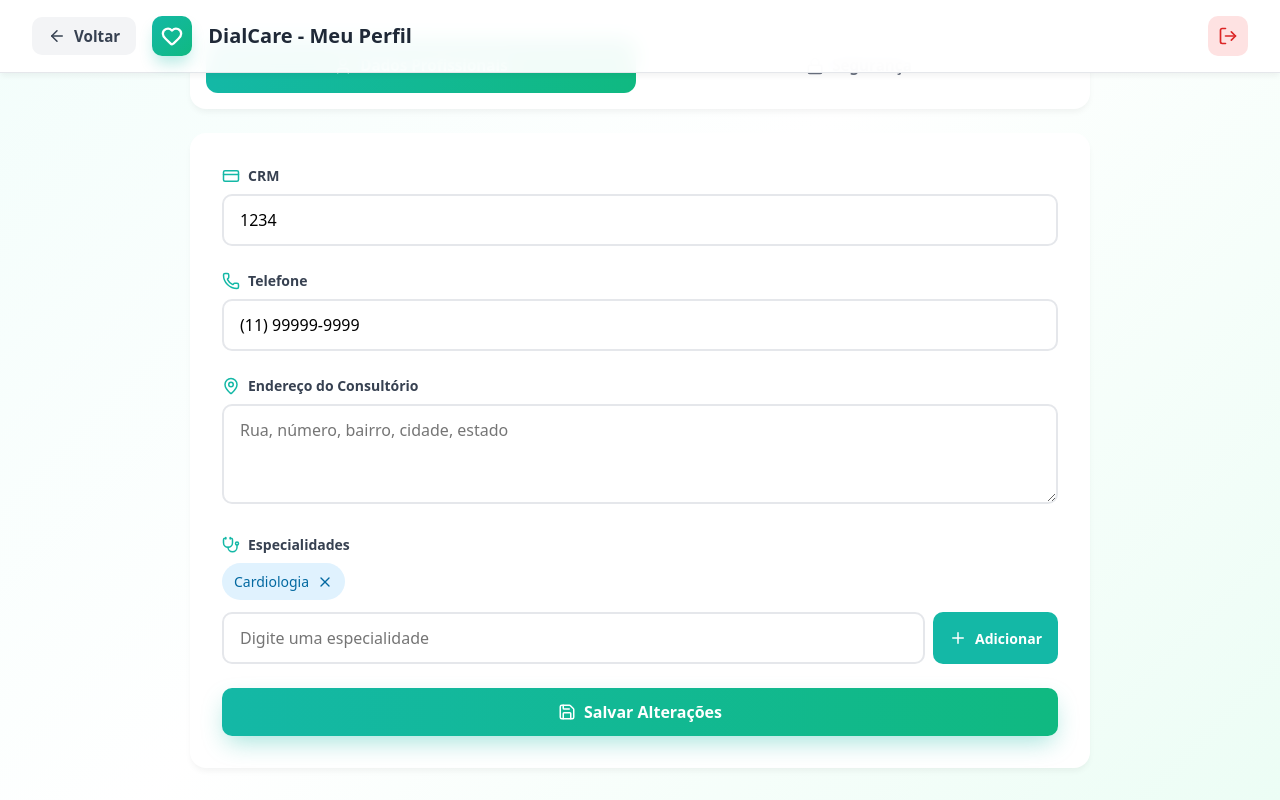
Scenario: DoctorProfile Component › adiciona e remove especialidade
(page scrolled)
Expected: the text "Cardiologia" is shown, [234,571,309,592]
Step 1. Type "Nefrologia" into the field with placeholder "Digite uma especialidade" → (574, 638), box [222,612,925,664]
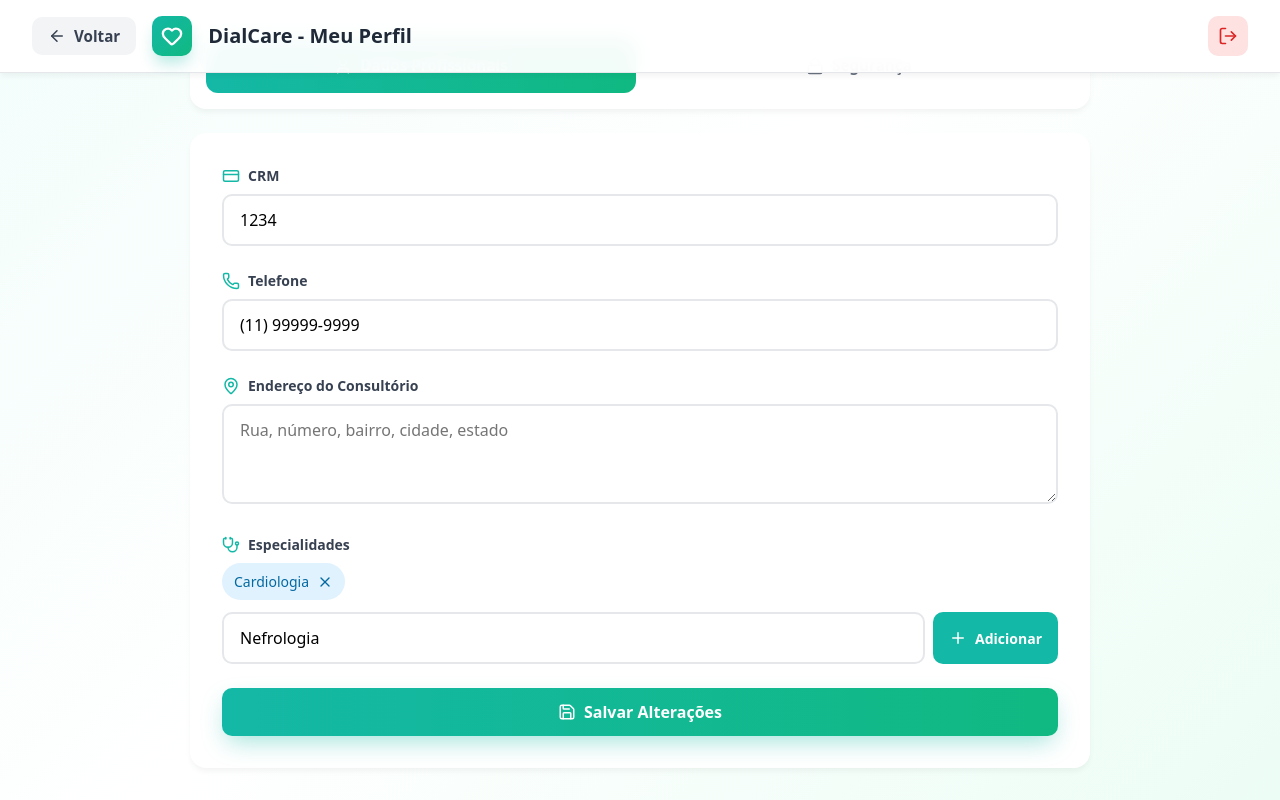
Step 2. Click the button "Adicionar" → (996, 638), box [933,612,1058,664]
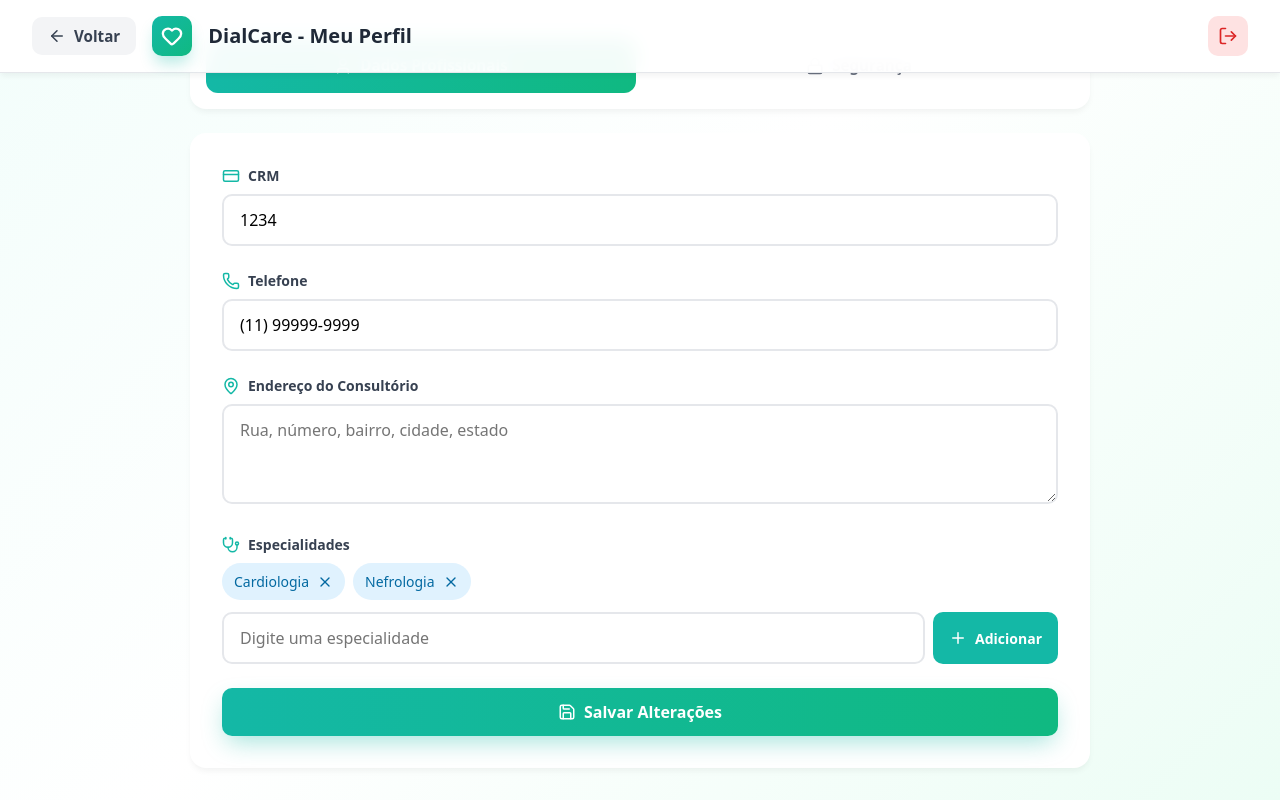
Result: the text "Nefrologia" is shown at [365,571,435,592]
Note: remove a especialidade
Step 3. Click the button without text next to "Nefrologia" → (450, 582), box [442,574,458,590]
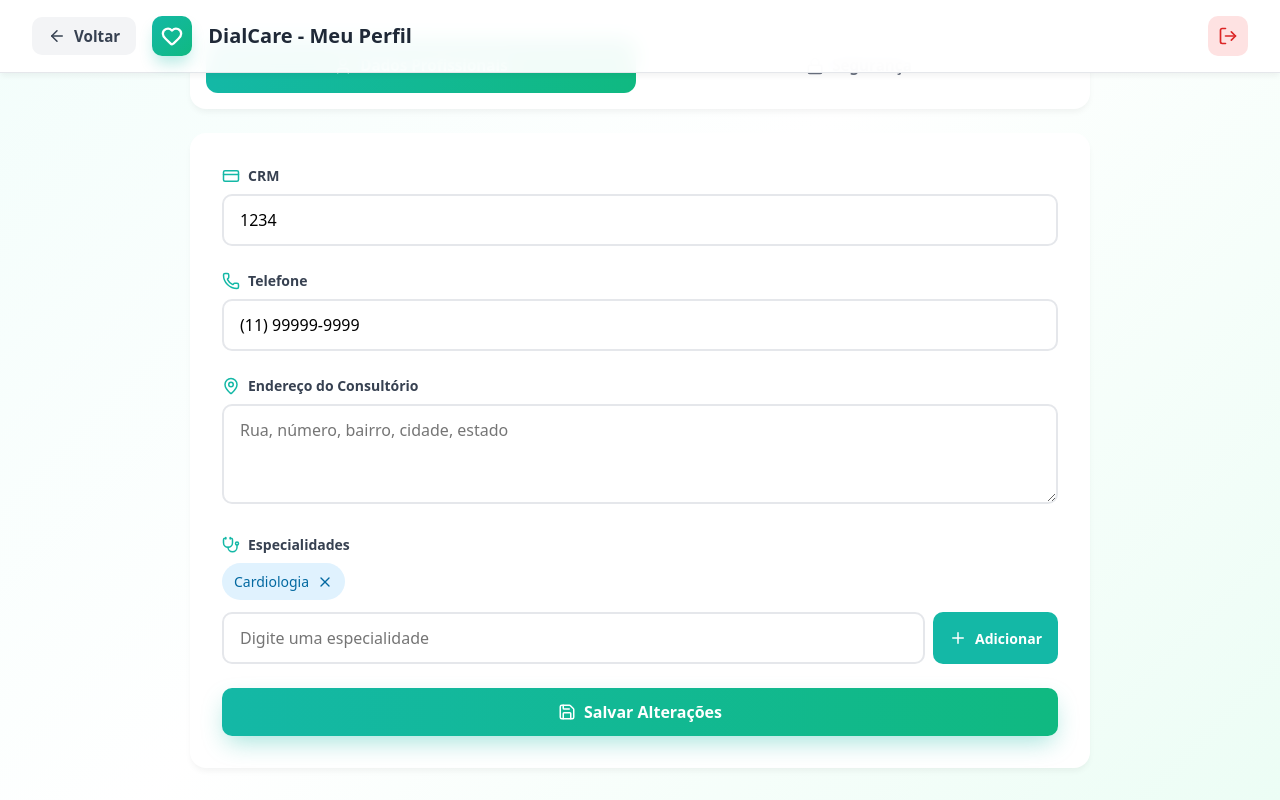
Result: the text "Nefrologia" is gone
